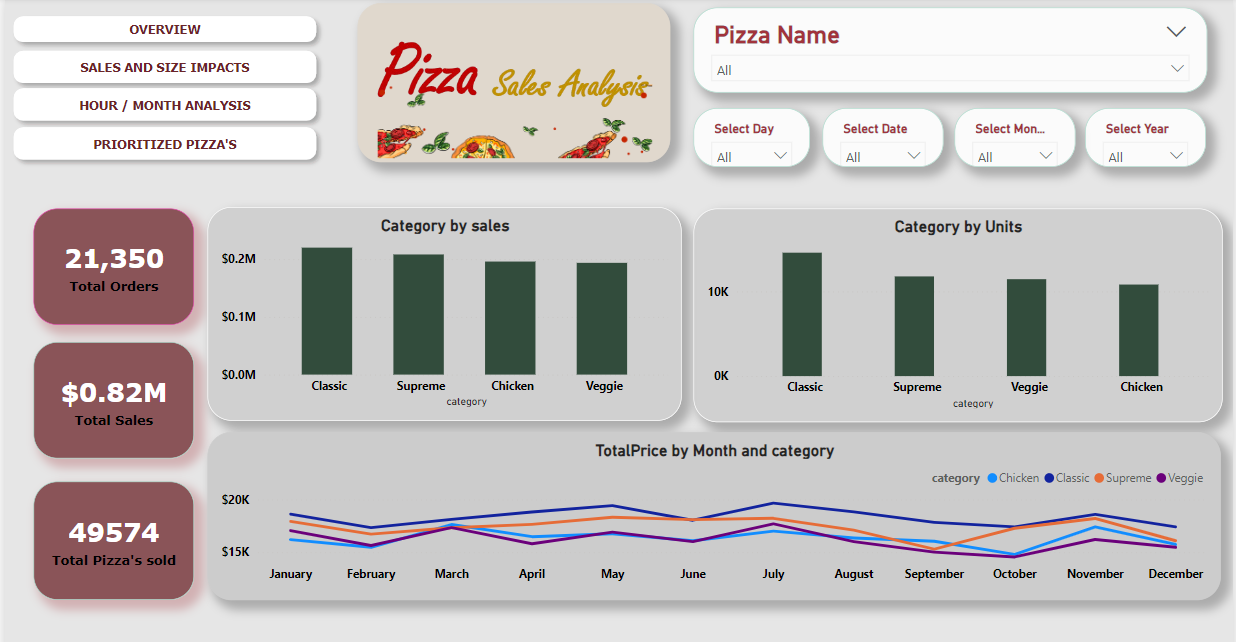

Layout of this report page (visuals, bound fields, positions):
{"tool":"powerbi","page":{"name":"Page 1","canvas":[1280,720],"ordinal":0},"visuals":[{"type":"card","fields":{"Values":["Count(order_details.order_id)"]},"box":[30,221.1,167.4,121.6],"z":0},{"type":"shape","box":[367.8,6.9,325.8,165.8],"z":1000},{"type":"card","fields":{"Values":["order_details.TotalPrice"]},"box":[30,360,167.4,121.6],"z":2000},{"type":"image","box":[354,10.4,350.5,136.4],"z":3000},{"type":"card","fields":{"Values":["Sum(order_details.quantity)"]},"box":[30,505.3,167.4,123.2],"z":4000},{"type":"slicer","fields":{"Values":["pizza_types.Column2"]},"box":[716.9,11.1,535.3,88.4],"z":5000},{"type":"clusteredColumnChart","title":"Category by sales","fields":{"Category":["pizza_types.category"],"Y":["order_details.TotalPrice"]},"box":[211.6,219.5,494.2,222.6],"z":6000},{"type":"clusteredColumnChart","title":"Category by Units","fields":{"Category":["pizza_types.category"],"Y":["CountNonNull(order_details.quantity)"]},"box":[716.9,221.1,551.1,222.6],"z":7000},{"type":"lineChart","fields":{"Category":["orders.date.Variation.Date Hierarchy.Month"],"Y":["order_details.TotalPrice"],"Series":["pizza_types.category"]},"box":[211.6,453.2,1056.3,175.3],"z":8000},{"type":"slicer","fields":{"Values":["orders.DayOfWeek"]},"box":[716.9,115.3,121.6,61.6],"z":9000},{"type":"slicer","fields":{"Values":["orders.DATEwise"]},"box":[851.1,115.3,126.3,61.6],"z":10000},{"type":"slicer","fields":{"Values":["orders.Monthwise"]},"box":[990,115.3,126.3,61.6],"z":11000},{"type":"slicer","fields":{"Values":["orders.Yearwise"]},"box":[1125.8,115.3,126.3,61.6],"z":12000},{"type":"image","box":[355.7,85.9,350.5,86.8],"z":13000},{"type":"actionButton","box":[0,10.4,333.2,44.9],"z":14000},{"type":"actionButton","box":[0,46.6,333.2,51.8],"z":15000},{"type":"actionButton","box":[0,86.3,333.2,51.8],"z":19000},{"type":"actionButton","box":[0,126,333.2,51.8],"z":25000}]}

Visuals, with their boxes on the page's 1280x720 design canvas (x1, y1, x2, y2). These are canvas units, not pixel positions in the 1236x642 screenshot, which may show the page scaled, cropped or inside an application window:
card - Count(order_details.order_id): BBox(30, 221, 197, 343)
shape: BBox(368, 7, 694, 173)
card - order_details.TotalPrice: BBox(30, 360, 197, 482)
image: BBox(354, 10, 704, 147)
card - Sum(order_details.quantity): BBox(30, 505, 197, 628)
slicer - pizza_types.Column2: BBox(717, 11, 1252, 100)
"Category by sales" clusteredColumnChart: BBox(212, 220, 706, 442)
"Category by Units" clusteredColumnChart: BBox(717, 221, 1268, 444)
lineChart - orders.date.Variation.Date Hierarchy.Month x order_details.TotalPrice: BBox(212, 453, 1268, 628)
slicer - orders.DayOfWeek: BBox(717, 115, 838, 177)
slicer - orders.DATEwise: BBox(851, 115, 977, 177)
slicer - orders.Monthwise: BBox(990, 115, 1116, 177)
slicer - orders.Yearwise: BBox(1126, 115, 1252, 177)
image: BBox(356, 86, 706, 173)
actionButton: BBox(0, 10, 333, 55)
actionButton: BBox(0, 47, 333, 98)
actionButton: BBox(0, 86, 333, 138)
actionButton: BBox(0, 126, 333, 178)
